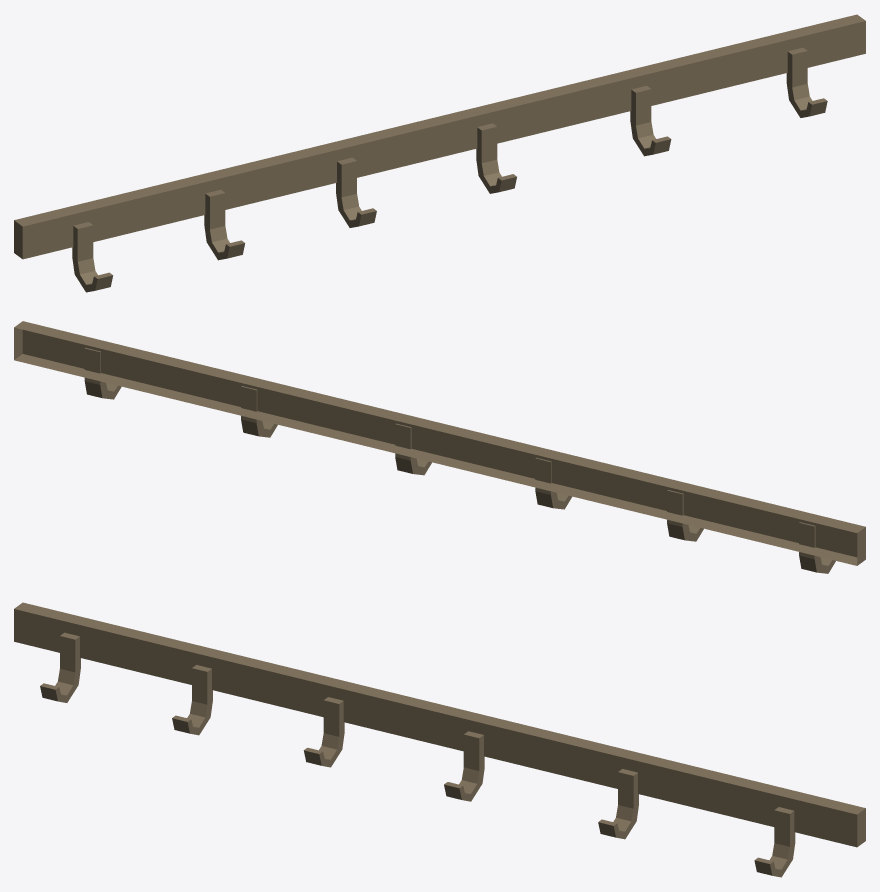
File: SM_Hanger_01.fbx
The picture shows the model from 3 angles, top to bottom: view 1: azimuth 30°, elevation 25°; view 2: azimuth 150°, elevation 25°; view 3: azimuth 330°, elevation 25°; orthographic projection.
Parts seen in each view (by area): view 1: SM_Hanger_01; view 2: SM_Hanger_01; view 3: SM_Hanger_01.
Part boxes in pixels (x1,y1,x2,y2): SM_Hanger_01: (14, 14, 865, 292); SM_Hanger_01: (14, 321, 865, 573); SM_Hanger_01: (14, 602, 865, 877).
Bounding box in the file's own units: 77.67 × 6.06 × 5.31.
Materials: 1 (1 with a texture image).
